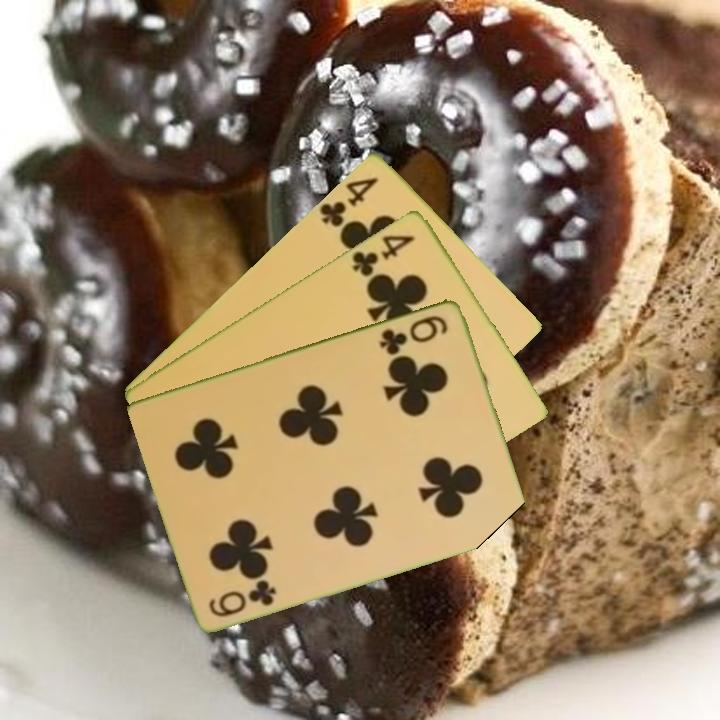4c: (315, 173, 382, 233), (348, 230, 418, 280)
6c: (376, 311, 452, 356), (205, 576, 279, 620)
